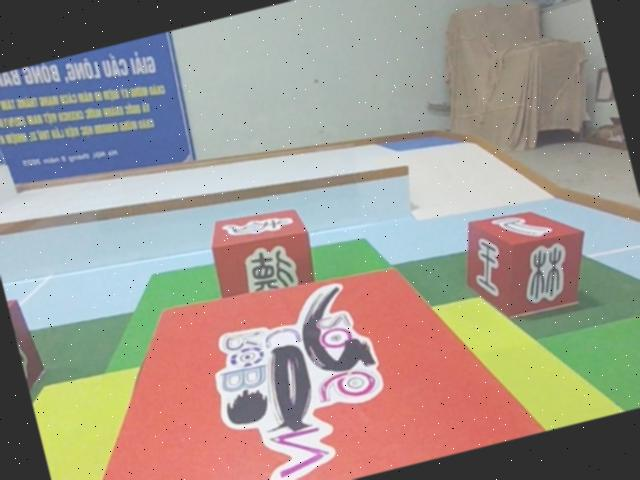R1: (15, 219, 552, 480)
R2 Fake: (451, 194, 601, 326), (202, 198, 323, 317), (5, 293, 57, 416)
